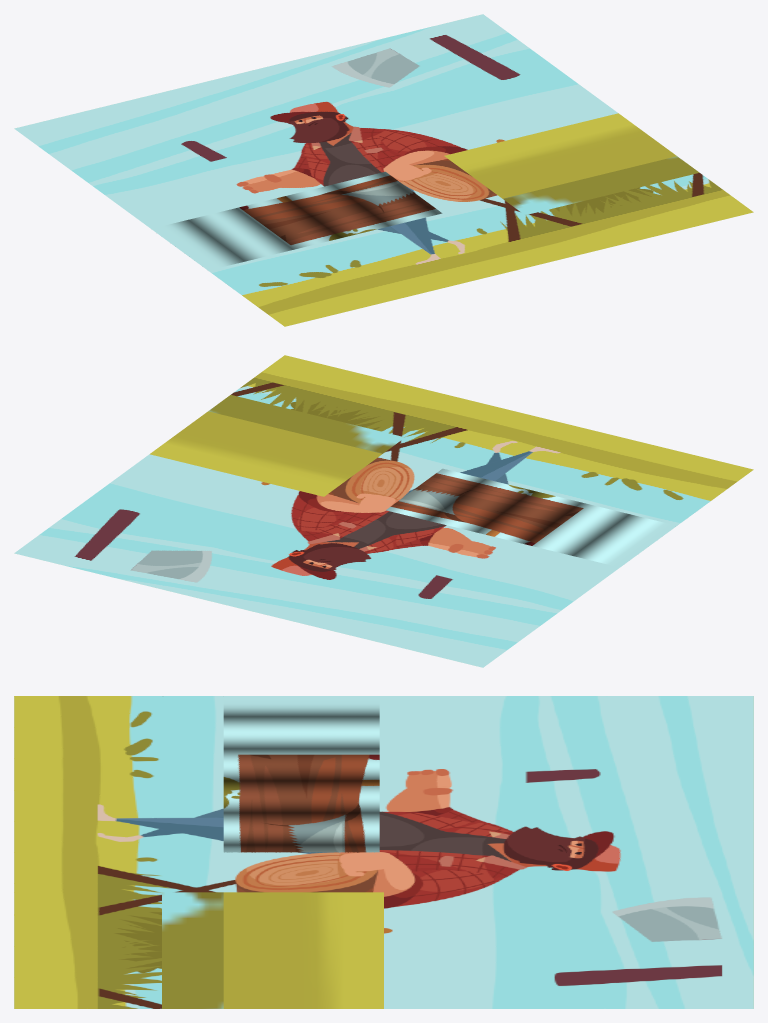
File: Level 89.fbx
3 views of the same model, one above another, from view 1: azimuth 30°, elevation 25°; view 2: azimuth 150°, elevation 25°; view 3: azimuth 270°, elevation 25° (orthographic). The views are drawn at different scales.
Parts seen in each view (by area): view 1: background, bikar; view 2: background, bikar; view 3: background, bikar.
Boxes of the visible parts, box(x1,y1,x2,y2) form: background: box(14, 14, 753, 326); bikar: box(151, 171, 442, 270); background: box(14, 355, 753, 667); bikar: box(386, 468, 676, 567); background: box(14, 696, 753, 1008); bikar: box(223, 696, 379, 852).
Bounding box in the file's own units: 2400 × 0.1087 × 2400.
